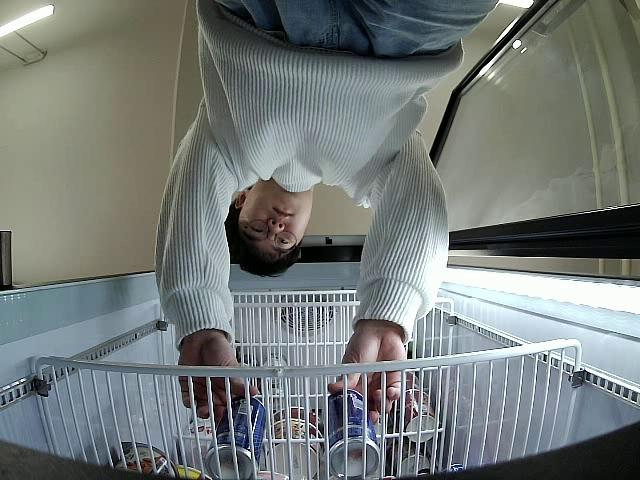00_hand: (328, 322, 408, 423), (177, 343, 260, 426)
16_hot6: (201, 397, 267, 480), (325, 391, 380, 480)
